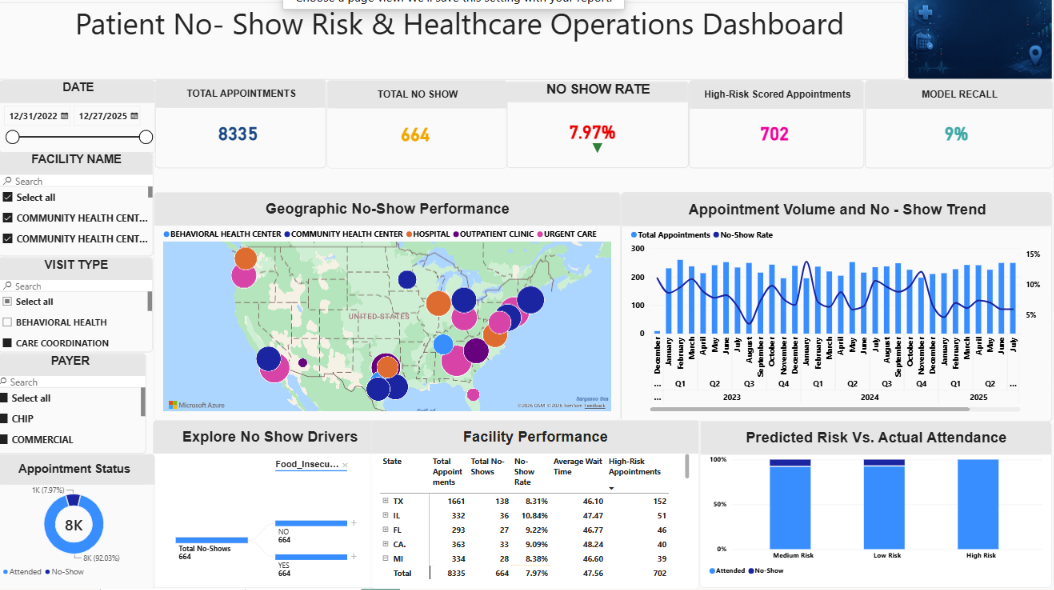

Layout of this report page (visuals, bound fields, positions):
{"tool":"powerbi","page":{"name":"No Show Overview","canvas":[1920,1080],"ordinal":0},"visuals":[{"type":"slicer","title":"DATE","fields":{"Values":["Dim_Date.Date"]},"box":[11.1,158.8,284.3,132.9],"z":0},{"type":"slicer","title":"FACILITY NAME","fields":{"Values":["Dim_Facilities.Facility_Name"]},"box":[9,290.4,281.4,189.1],"z":1000},{"type":"slicer","title":"VISIT TYPE","fields":{"Values":["Fact_Encounters.Visit_Type"]},"box":[9.8,479.8,280.7,173],"z":2000},{"type":"slicer","title":"PAYER","fields":{"Values":["Fact_Encounters.Payer"]},"box":[0,652.9,277.5,182.8],"z":3000},{"type":"textbox","box":[9.9,17.8,1643.2,140.6],"z":4000},{"type":"image","box":[1654,9,266,150.2],"z":5000},{"type":"advanceCardE03760C5AB684758B56AA29F9E6C257B","title":"TOTAL APPOINTMENTS","fields":{"mainMeasure":["Dim_Date.Total Appointments"]},"box":[293.4,158,310.3,161.8],"z":6000},{"type":"advanceCardE03760C5AB684758B56AA29F9E6C257B","title":"TOTAL NO SHOW","fields":{"mainMeasure":["Fact_Encounters.Total No-Shows"]},"box":[603.8,159.9,327.3,159.9],"z":7000},{"type":"advanceCardE03760C5AB684758B56AA29F9E6C257B","title":"NO SHOW RATE","fields":{"mainMeasure":["Fact_Encounters.No-Show Rate"]},"box":[929.2,161.8,331,158],"z":8000},{"type":"advanceCardE03760C5AB684758B56AA29F9E6C257B","title":"High-Risk Scored Appointments","fields":{"mainMeasure":["Dim_Date.High-Risk Appointments"]},"box":[1260.2,159.9,317.9,159.9],"z":9000},{"type":"advanceCardE03760C5AB684758B56AA29F9E6C257B","title":"MODEL RECALL","fields":{"mainMeasure":["Model_Predictions.Model Recall"]},"box":[1578.1,159.9,340.4,159.9],"z":10000},{"type":"azureMap","title":"Geographic No-Show Performance","fields":{"Category":["Dim_Facilities.Facility_ID"],"Series":["Dim_Facilities.Facility_Type"],"Size":["Dim_Date.Total Appointments"],"X":["Avg(Dim_Facilities.Longitude)"],"Y":["Avg(Dim_Facilities.Latitude)"]},"box":[291.5,361.1,844.5,413.8],"z":11000},{"type":"lineStackedColumnComboChart","title":"Appointment Volume and No - Show Trend","fields":{"Category":["Dim_Date.Year","Dim_Date.Quarter","Dim_Date.Month Name"],"Y":["Dim_Date.Total Appointments"],"Y2":["Fact_Encounters.No-Show Rate"]},"box":[1136.1,361.1,780.6,415.7],"z":12000},{"type":"decompositionTreeVisual","title":"Explore No Show Drivers","fields":{"Analyze":["Fact_Encounters.Total No-Shows"],"ExplainBy":["Healthcare_No_Show_Model_Data.Food_Insecurity_Flag","Healthcare_No_Show_Model_Data.Transportation_Barrier","Dim_Facilities.Facility_Name","Fact_Encounters.Visit_Type","Fact_Encounters.Age_Group","Dim_Providers.Specialty"]},"box":[290.4,774.5,423.3,303.9],"z":13000},{"type":"donutChart","title":"Appointment Status","fields":{"Category":["Fact_Encounters.Appointment_Status"],"Y":["Dim_Date.Total Appointments"]},"box":[0,835.7,293.8,244.8],"z":14000},{"type":"pivotTable","title":"Facility Performance","fields":{"Rows":["Dim_Facilities.State","Dim_Facilities.City","Dim_Facilities.Facility_Name"],"Values":["Dim_Date.Total Appointments","Fact_Encounters.Total No-Shows","Fact_Encounters.No-Show Rate","Fact_Encounters.Average Wait Time","Dim_Date.High-Risk Appointments"]},"box":[684.4,774.5,594.4,306.2],"z":15000},{"type":"hundredPercentStackedColumnChart","title":"Predicted Risk Vs. Actual Attendance","fields":{"Category":["Model_Predictions.Risk Band"],"Series":["Fact_Encounters.Appointment_Status"],"Y":["Dim_Date.Total Appointments"]},"box":[1278.8,776.7,637.2,301.7],"z":16000},{"type":"advanceCardE03760C5AB684758B56AA29F9E6C257B","fields":{"mainMeasure":["Fact_Encounters.No-Show Trend Arrow"],"conditionMeasure":["Fact_Encounters.No-Show Rate QoQ Change"]},"box":[929.2,225.7,331,94],"z":16001}]}

Visuals, with their boxes in screenshot pixels (x1, y1, x2, y2), scaled from the page's 1920x1080 canvas onto the 1054x590 screenshot:
"DATE" slicer: 6/87/162/159
"FACILITY NAME" slicer: 5/159/159/262
"VISIT TYPE" slicer: 5/262/159/357
"PAYER" slicer: 0/357/152/457
textbox: 5/10/907/87
image: 908/5/1053/87
"TOTAL APPOINTMENTS" advanceCardE03760C5AB684758B56AA29F9E6C257B: 161/86/331/175
"TOTAL NO SHOW" advanceCardE03760C5AB684758B56AA29F9E6C257B: 331/87/511/175
"NO SHOW RATE" advanceCardE03760C5AB684758B56AA29F9E6C257B: 510/88/692/175
"High-Risk Scored Appointments" advanceCardE03760C5AB684758B56AA29F9E6C257B: 692/87/866/175
"MODEL RECALL" advanceCardE03760C5AB684758B56AA29F9E6C257B: 866/87/1053/175
"Geographic No-Show Performance" azureMap: 160/197/624/423
"Appointment Volume and No - Show Trend" lineStackedColumnComboChart: 624/197/1052/424
"Explore No Show Drivers" decompositionTreeVisual: 159/423/392/589
"Appointment Status" donutChart: 0/457/161/589
"Facility Performance" pivotTable: 376/423/702/589
"Predicted Risk Vs. Actual Attendance" hundredPercentStackedColumnChart: 702/424/1052/589
advanceCardE03760C5AB684758B56AA29F9E6C257B - Fact_Encounters.No-Show Trend Arrow x Fact_Encounters.No-Show Rate QoQ Change: 510/123/692/175
